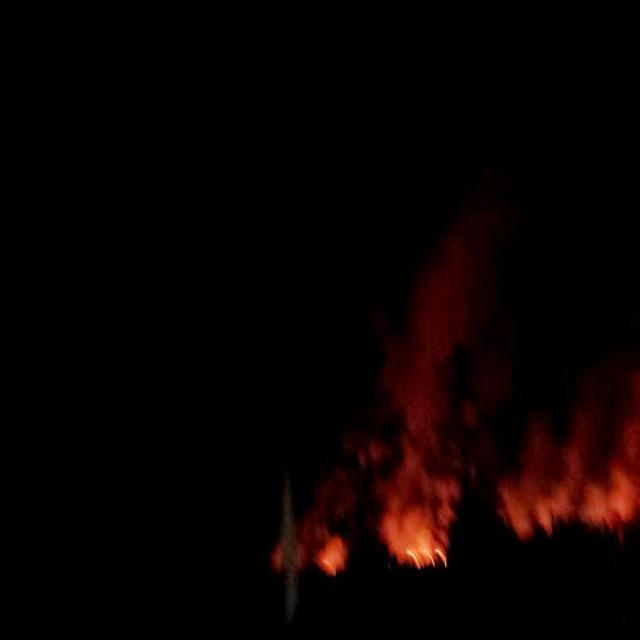Fire: (497, 424, 640, 588), (388, 486, 460, 608), (298, 500, 360, 614)
Smoke: (357, 173, 640, 535)
